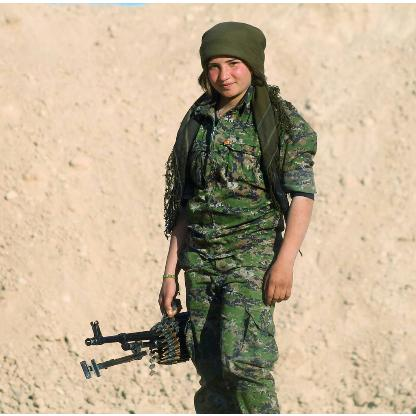gun: (67, 314, 209, 382)
